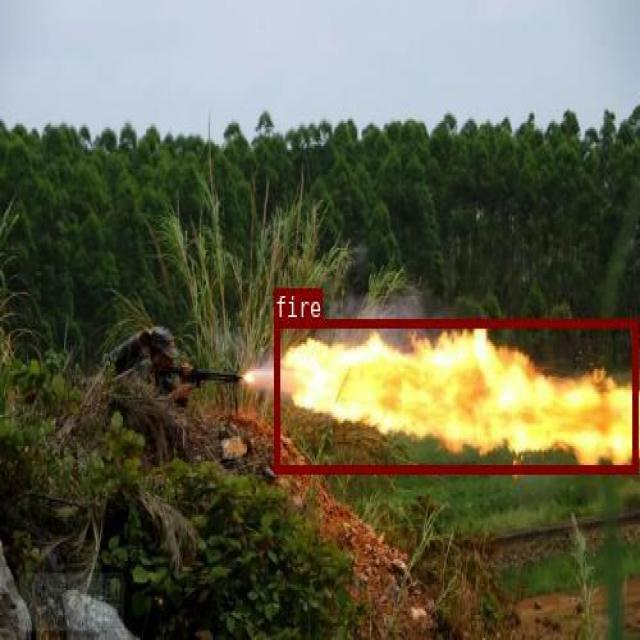fire: (273, 317, 637, 473)
